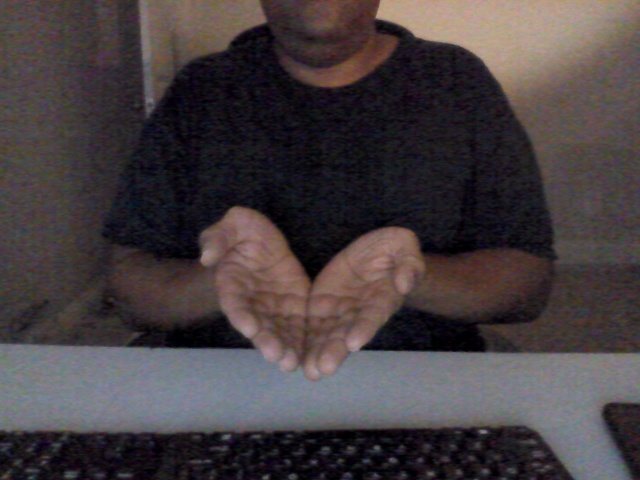book: (195, 197, 437, 385)
